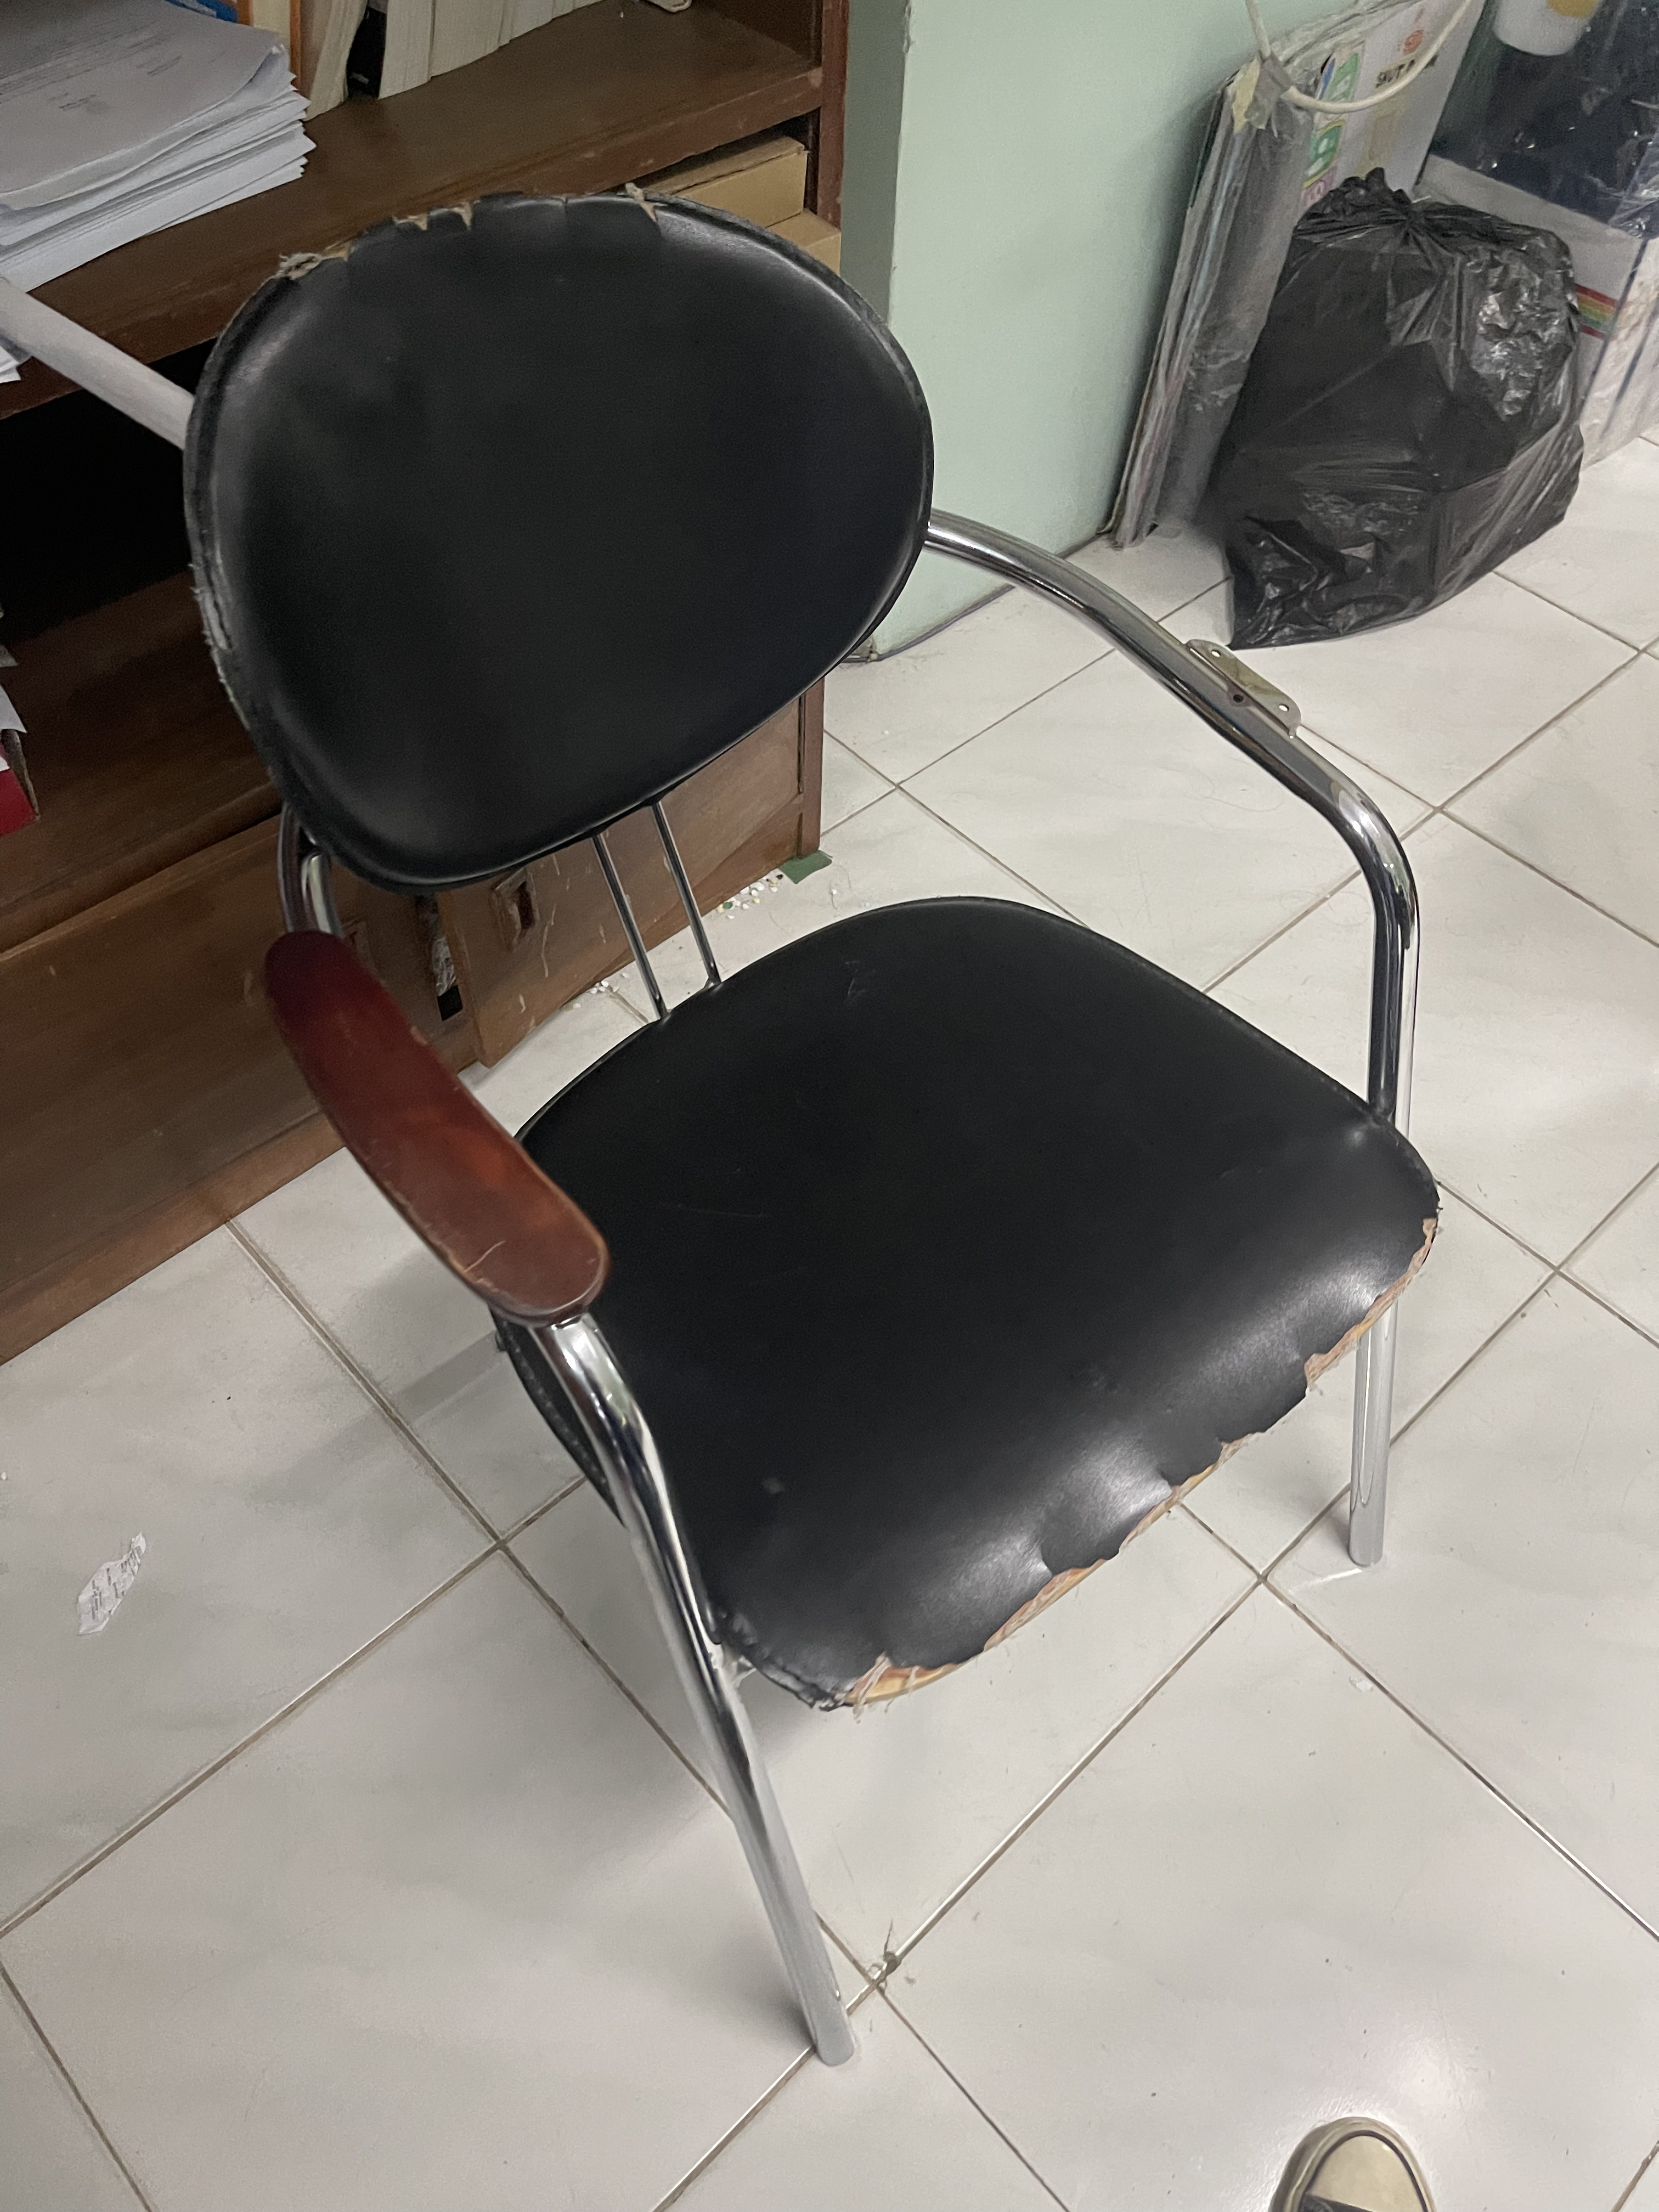chair1: (164, 193, 1439, 2060)
